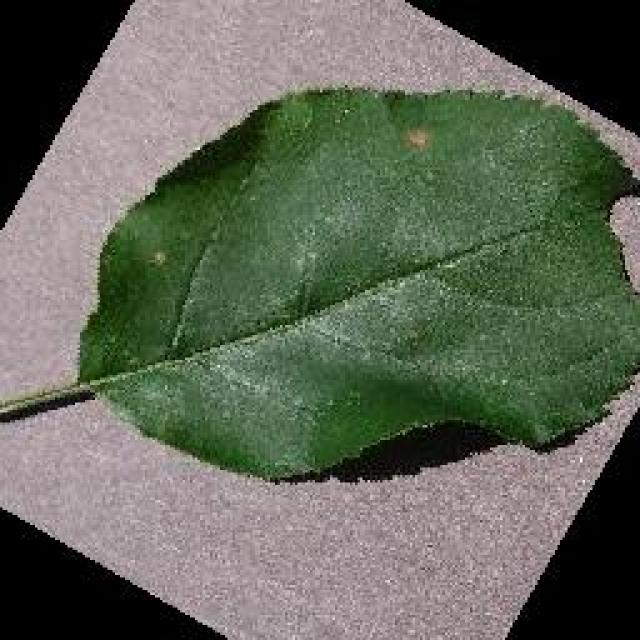apple black rot: (72, 82, 638, 482)
